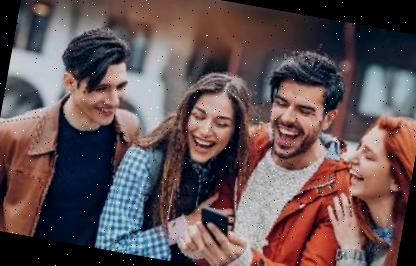person: (0, 14, 162, 252), (219, 50, 376, 266), (103, 54, 260, 266), (323, 102, 416, 266)
